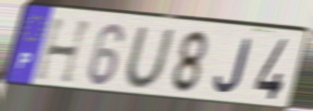4: (252, 38, 292, 102)
6: (85, 21, 126, 89)
8: (170, 29, 211, 96)
H: (33, 16, 97, 86)
J: (213, 36, 254, 95)
U: (123, 26, 177, 92)
